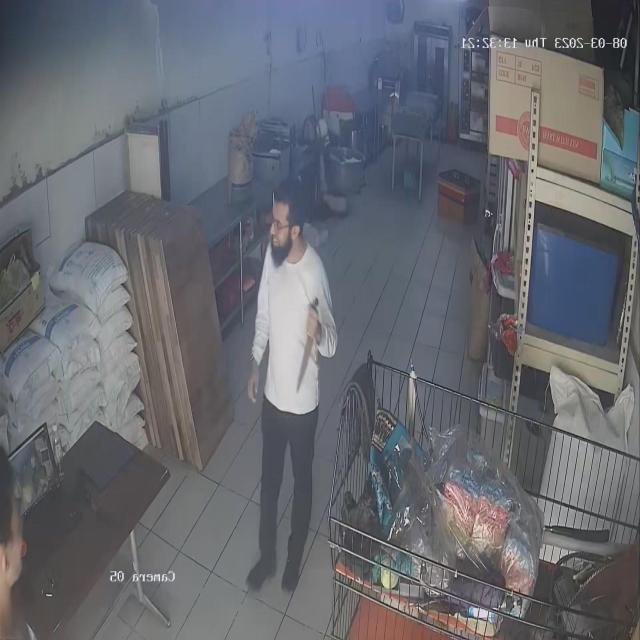Knife: (288, 288, 332, 387)
